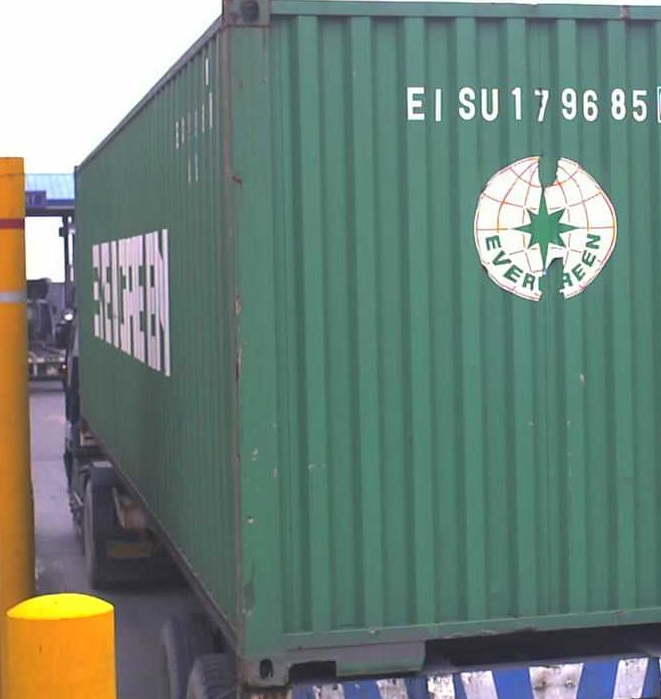container_no_door: (227, 1, 659, 687)
